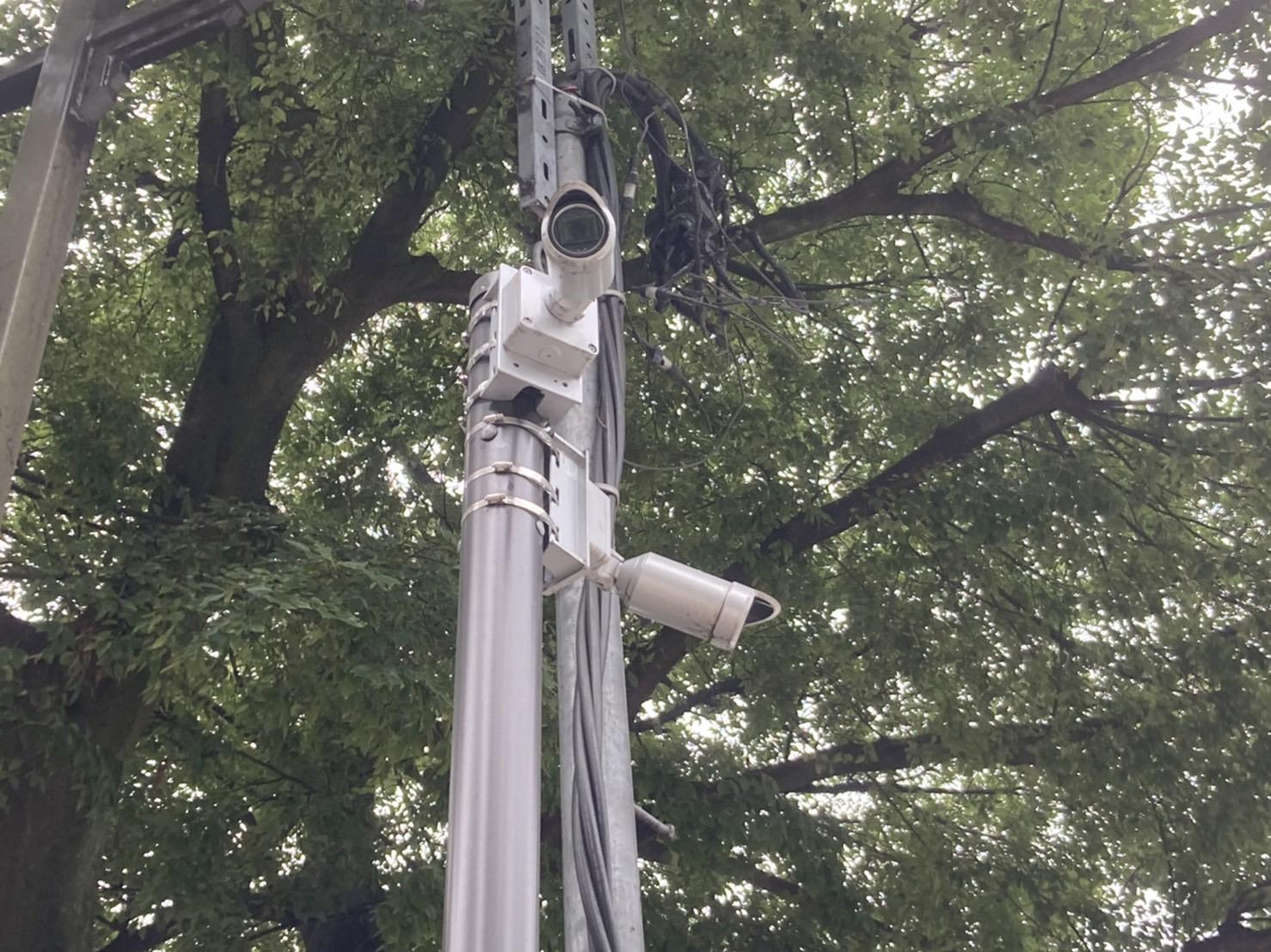tutu: (604, 543, 788, 660), (533, 170, 623, 306)
